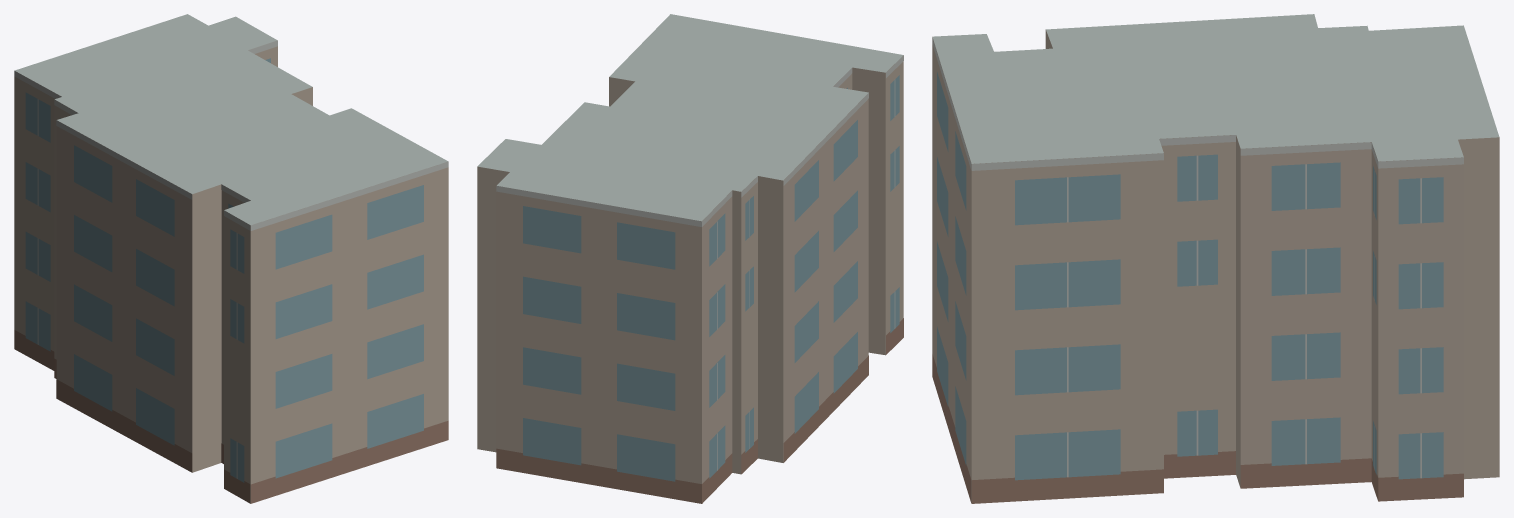
File: survey-upis-33043451.glb
The picture shows the model from 3 angles, left to right: view 1: azimuth 30°, elevation 25°; view 2: azimuth 150°, elevation 25°; view 3: azimuth 270°, elevation 25°; orthographic projection. The views are drawn at different scales.
Visible parts, largest first — view 1: survey-upis-33043451.tmp; view 2: survey-upis-33043451.tmp; view 3: survey-upis-33043451.tmp.
Boxes of the visible parts, x1=… form: survey-upis-33043451.tmp: x1=14, y1=14, x2=448, y2=503; survey-upis-33043451.tmp: x1=477, y1=14, x2=903, y2=503; survey-upis-33043451.tmp: x1=932, y1=14, x2=1499, y2=503.
Size of the model in its own units: 11.07 by 11.7 by 17.7.
